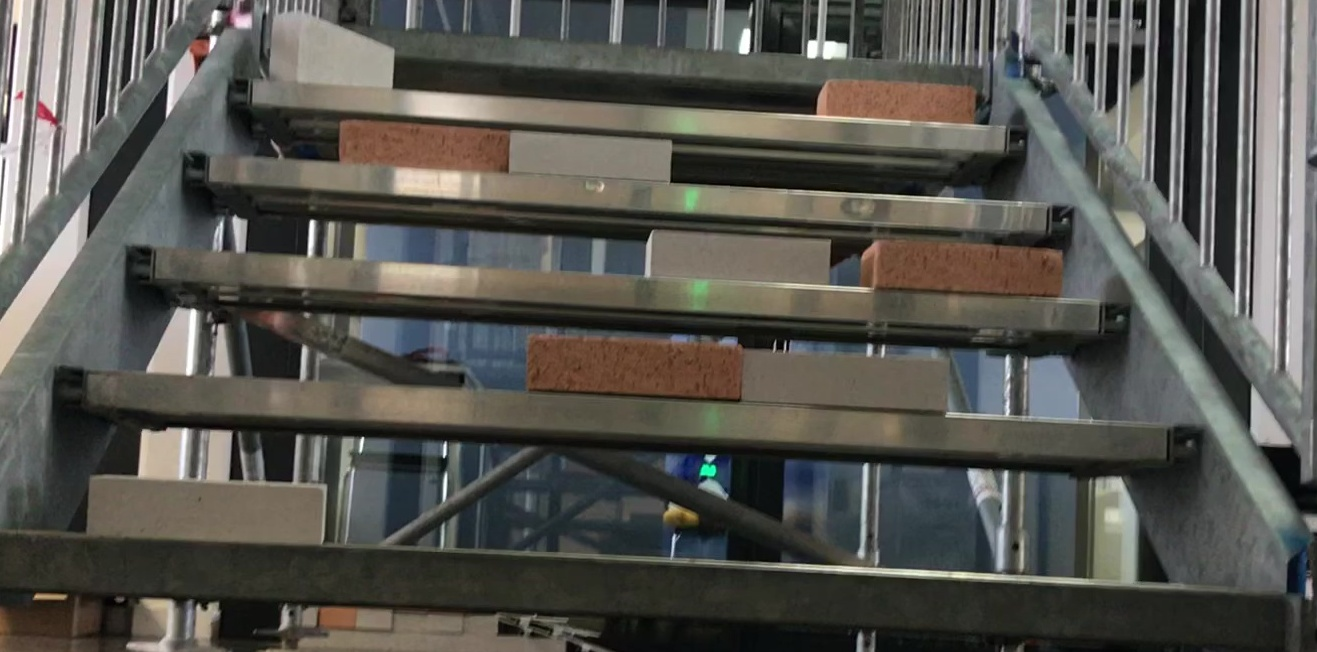brick: (90, 475, 325, 543), (526, 336, 741, 401), (741, 354, 947, 410), (862, 242, 1063, 297), (646, 230, 828, 282), (272, 11, 393, 89), (339, 121, 507, 173), (511, 134, 669, 183), (816, 79, 974, 125)
edge: (3, 531, 1284, 642), (56, 363, 1199, 474), (120, 242, 1128, 337), (181, 144, 1070, 234), (229, 72, 1025, 151), (258, 14, 989, 90)
